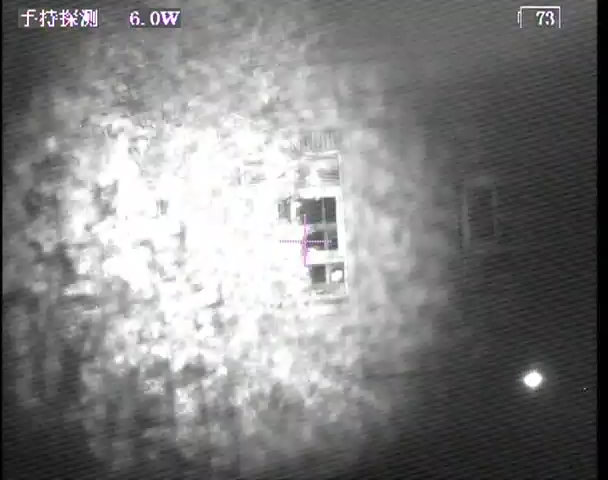my: (331, 269, 347, 285)
